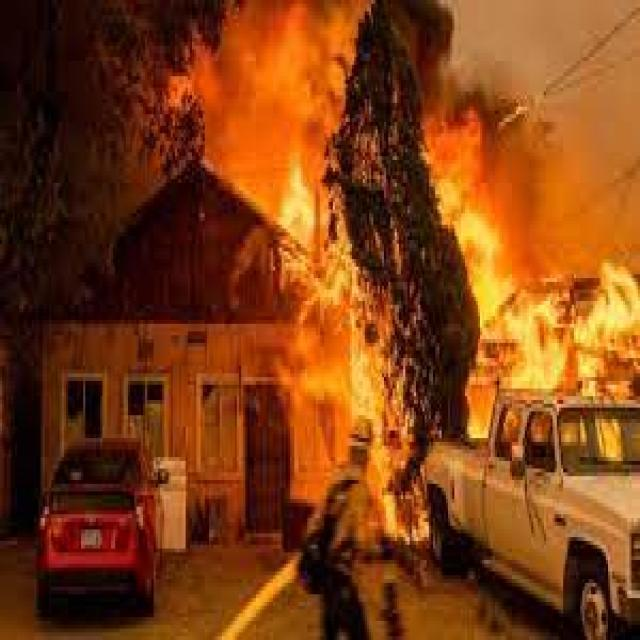Fire: (426, 124, 640, 397), (288, 166, 406, 466), (208, 14, 338, 211)
